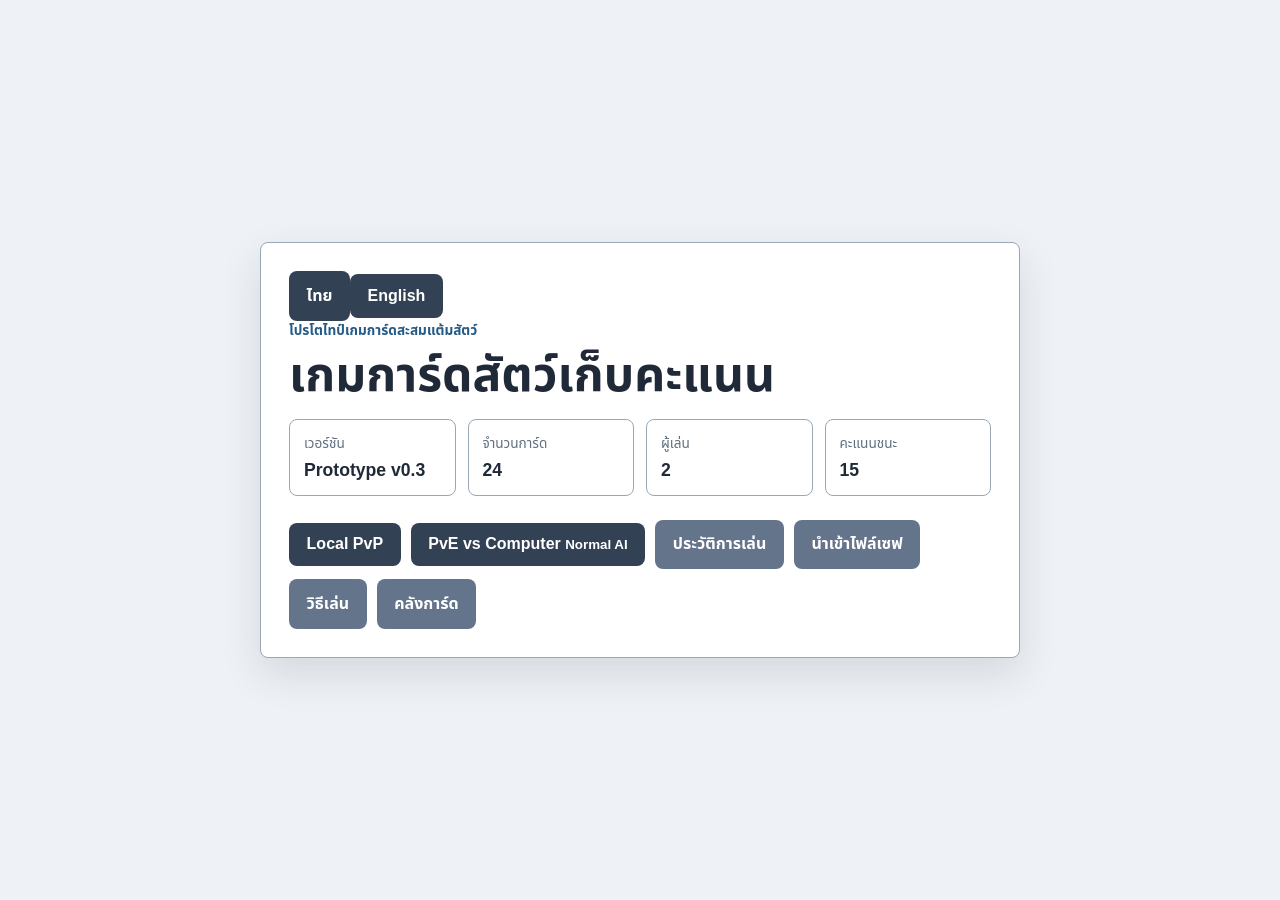
Test: App Phase 4 UI › renders mobile-safe board and hand structure
Click the button "Local PvP". click: click(345, 544)
box: x1=289 y1=523 x2=401 y2=566
(page scrolled)
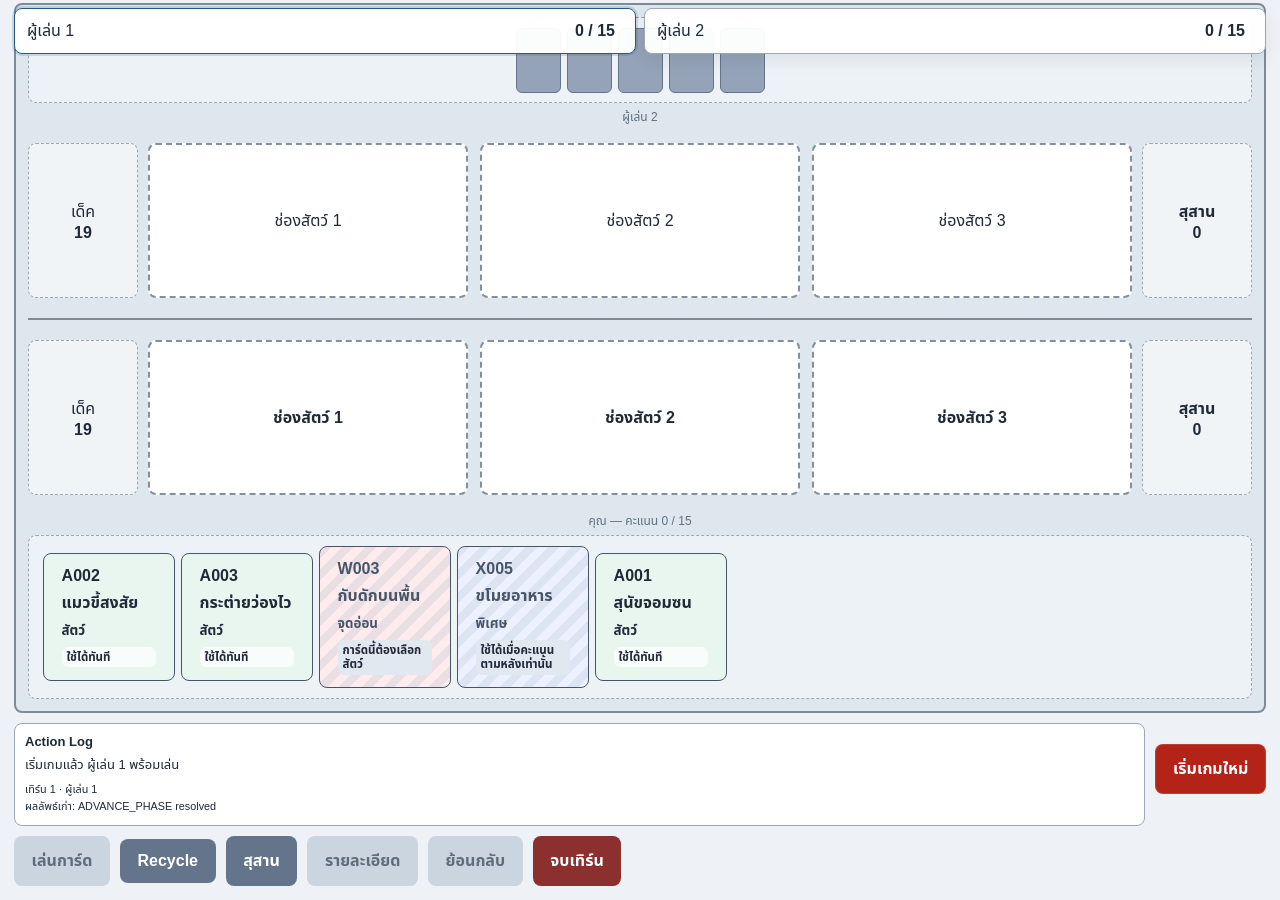
Expected: the button "A002 แมวขี้สงสัย สัตว์ ใช้ได้ทันที" is shown, x1=43 y1=553 x2=175 y2=681
Expected: the 1st text "เด็ค" is shown, x1=71 y1=200 x2=95 y2=224
Expected: the 1st button "สุสาน 0" is shown, x1=1142 y1=143 x2=1252 y2=298
